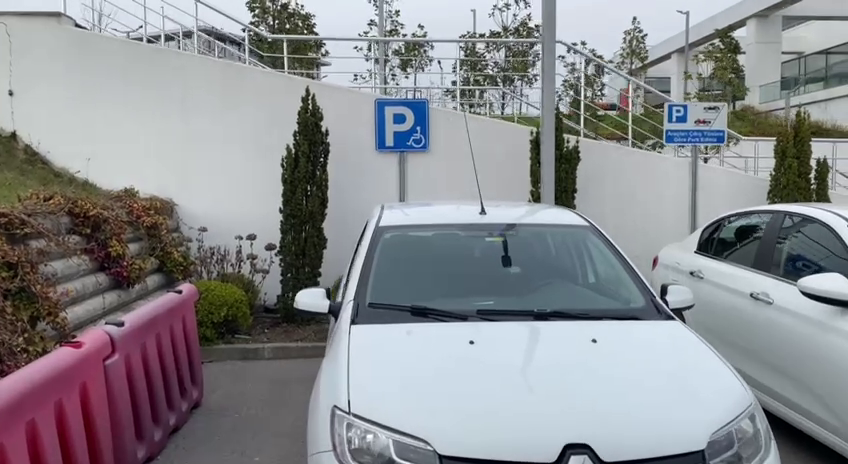parking: (373, 95, 430, 152), (667, 104, 690, 125)
